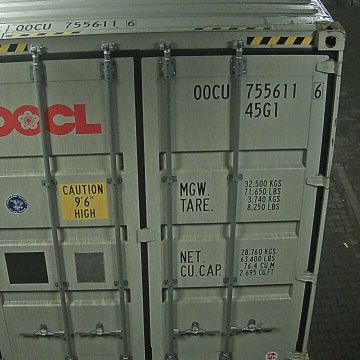serial_id: (193, 83, 322, 99)
